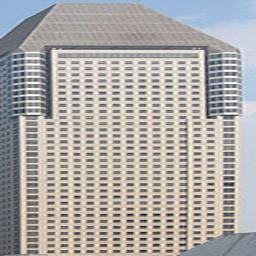building: (0, 0, 243, 255)
